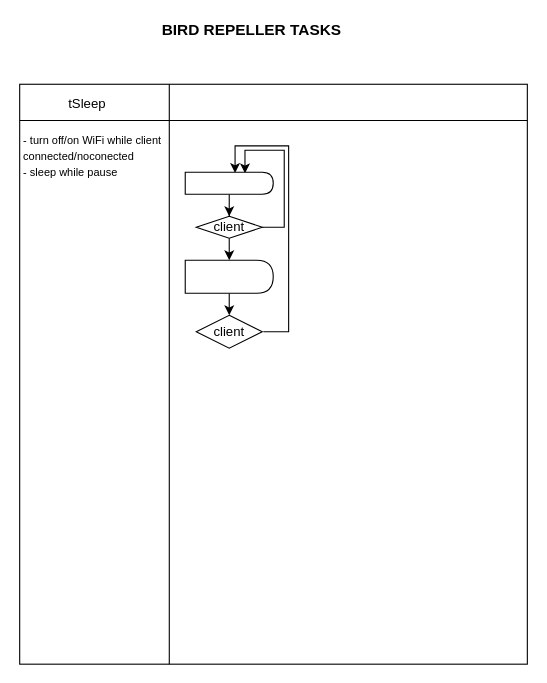
Image size: 547x683. Some labels were removed from this diagram. The shapes that lost their labels are listed below. From the top down, each one's centre as x and y in pixels, then its label:
At pixel 228 182: "working time".
At pixel 228 276: "waiting holding time".
